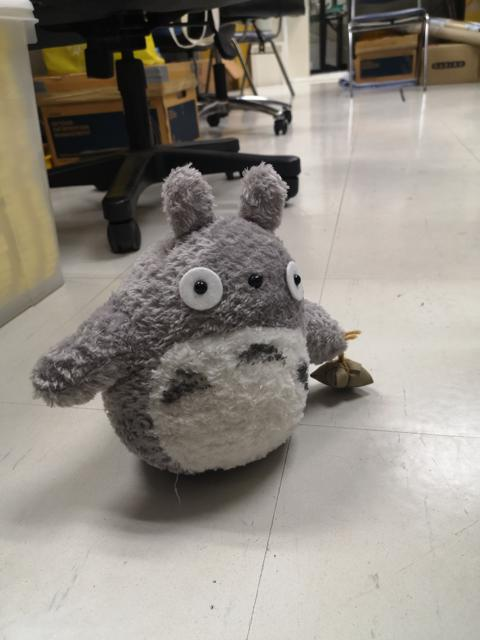totoro: (26, 156, 377, 488)
